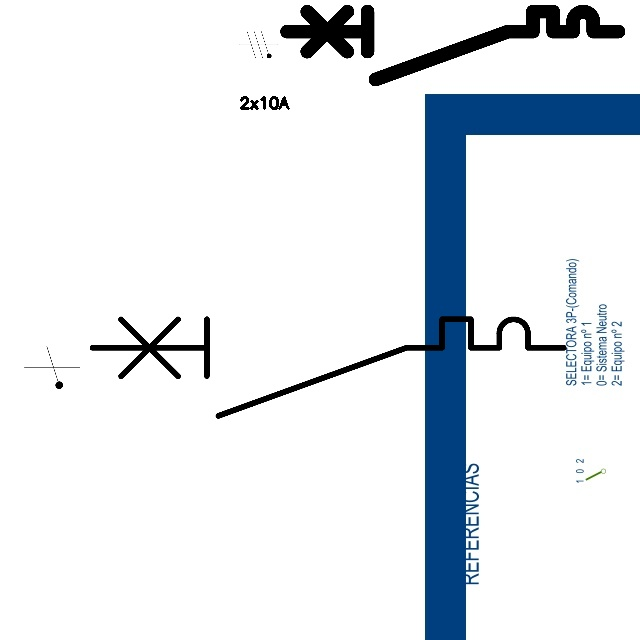interruptor_termomagnetico: (80, 307, 575, 428), (278, 3, 627, 88)
